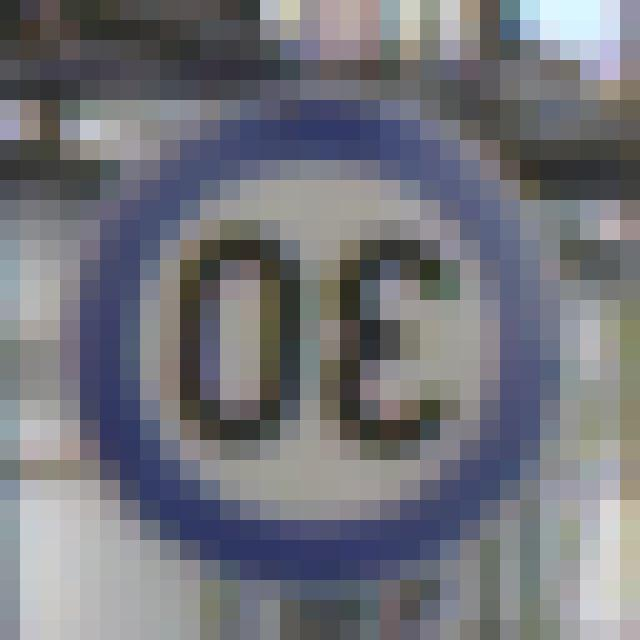SPEED LIMIT 30: (80, 103, 548, 558)
